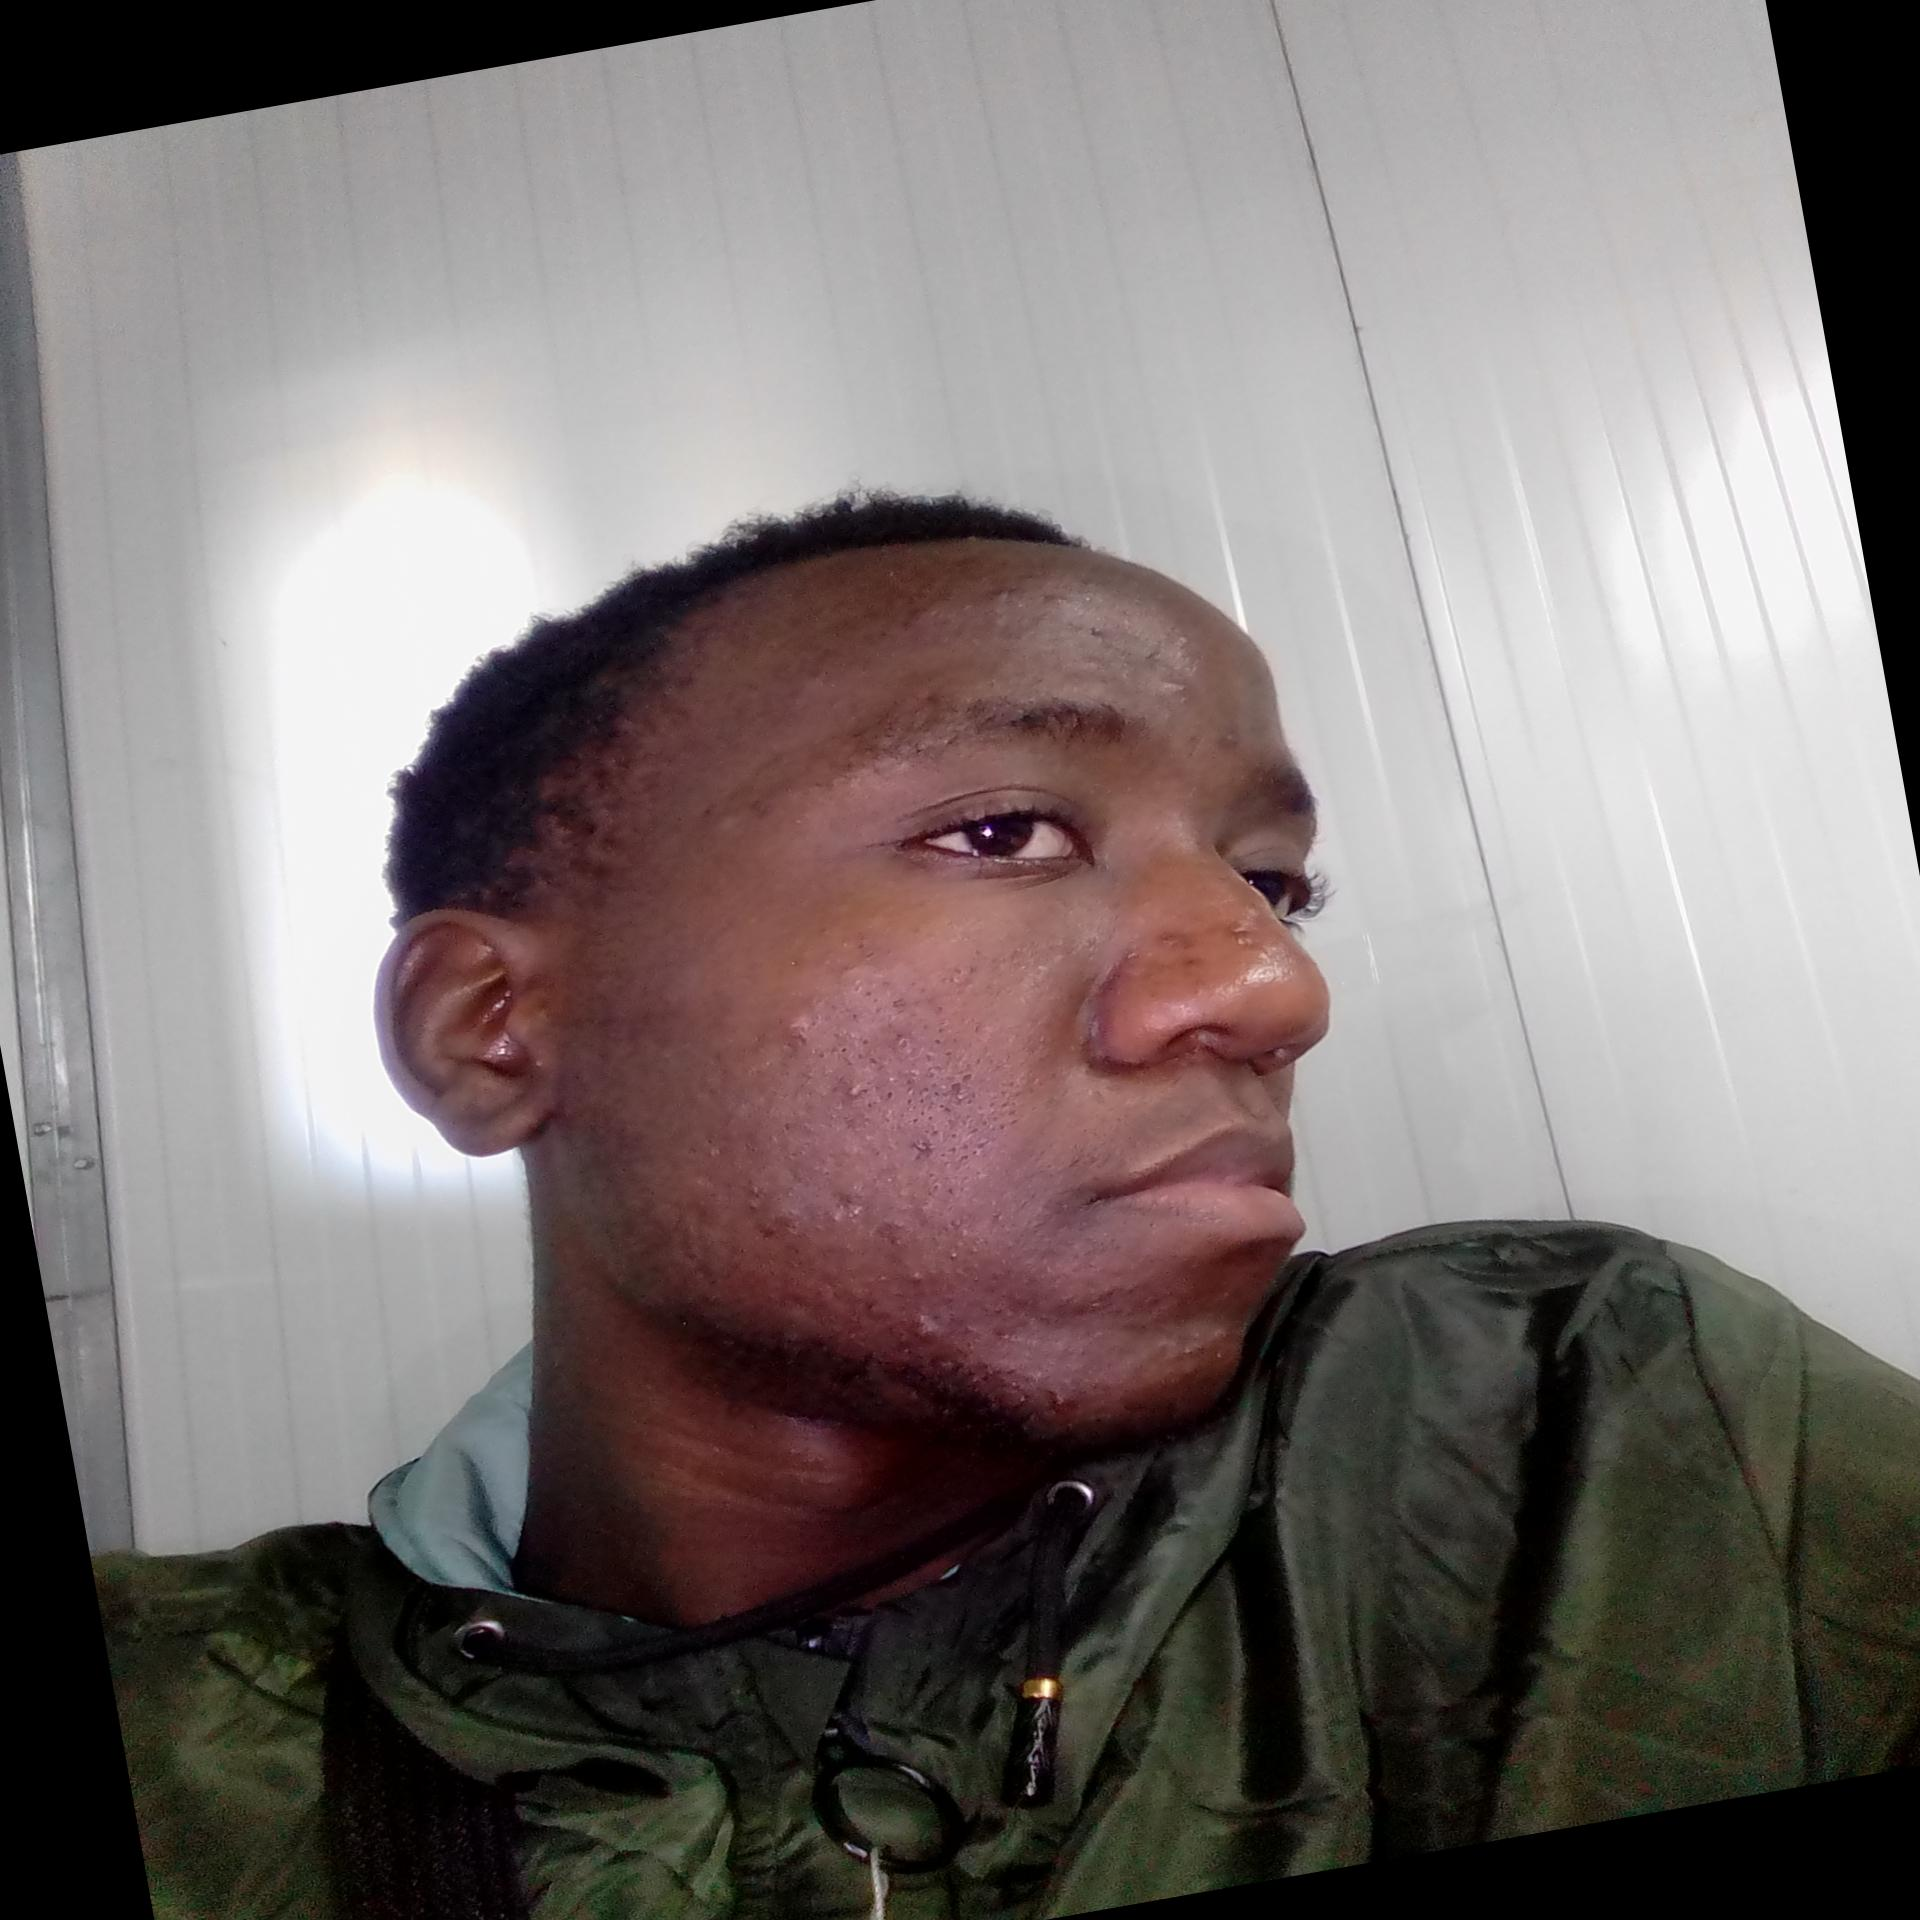Acne: (751, 1199, 811, 1241), (777, 661, 828, 709), (1204, 712, 1255, 758), (863, 1210, 916, 1250), (819, 1182, 872, 1218), (1141, 636, 1183, 675), (777, 1007, 814, 1050), (907, 1305, 948, 1342), (1150, 673, 1192, 709), (900, 1134, 941, 1167), (893, 600, 941, 628), (703, 807, 751, 835), (853, 1294, 898, 1322), (1160, 1338, 1201, 1370), (1039, 1384, 1078, 1414), (837, 1073, 877, 1101), (1224, 914, 1257, 948), (1150, 925, 1194, 949), (1078, 619, 1113, 647), (749, 788, 775, 823), (983, 584, 1023, 605), (890, 1029, 918, 1057), (1036, 589, 1073, 610), (900, 1266, 932, 1291), (1210, 1320, 1234, 1343), (1182, 953, 1206, 974), (1176, 628, 1199, 645)
Englarged Pores: (804, 955, 1030, 1187)
